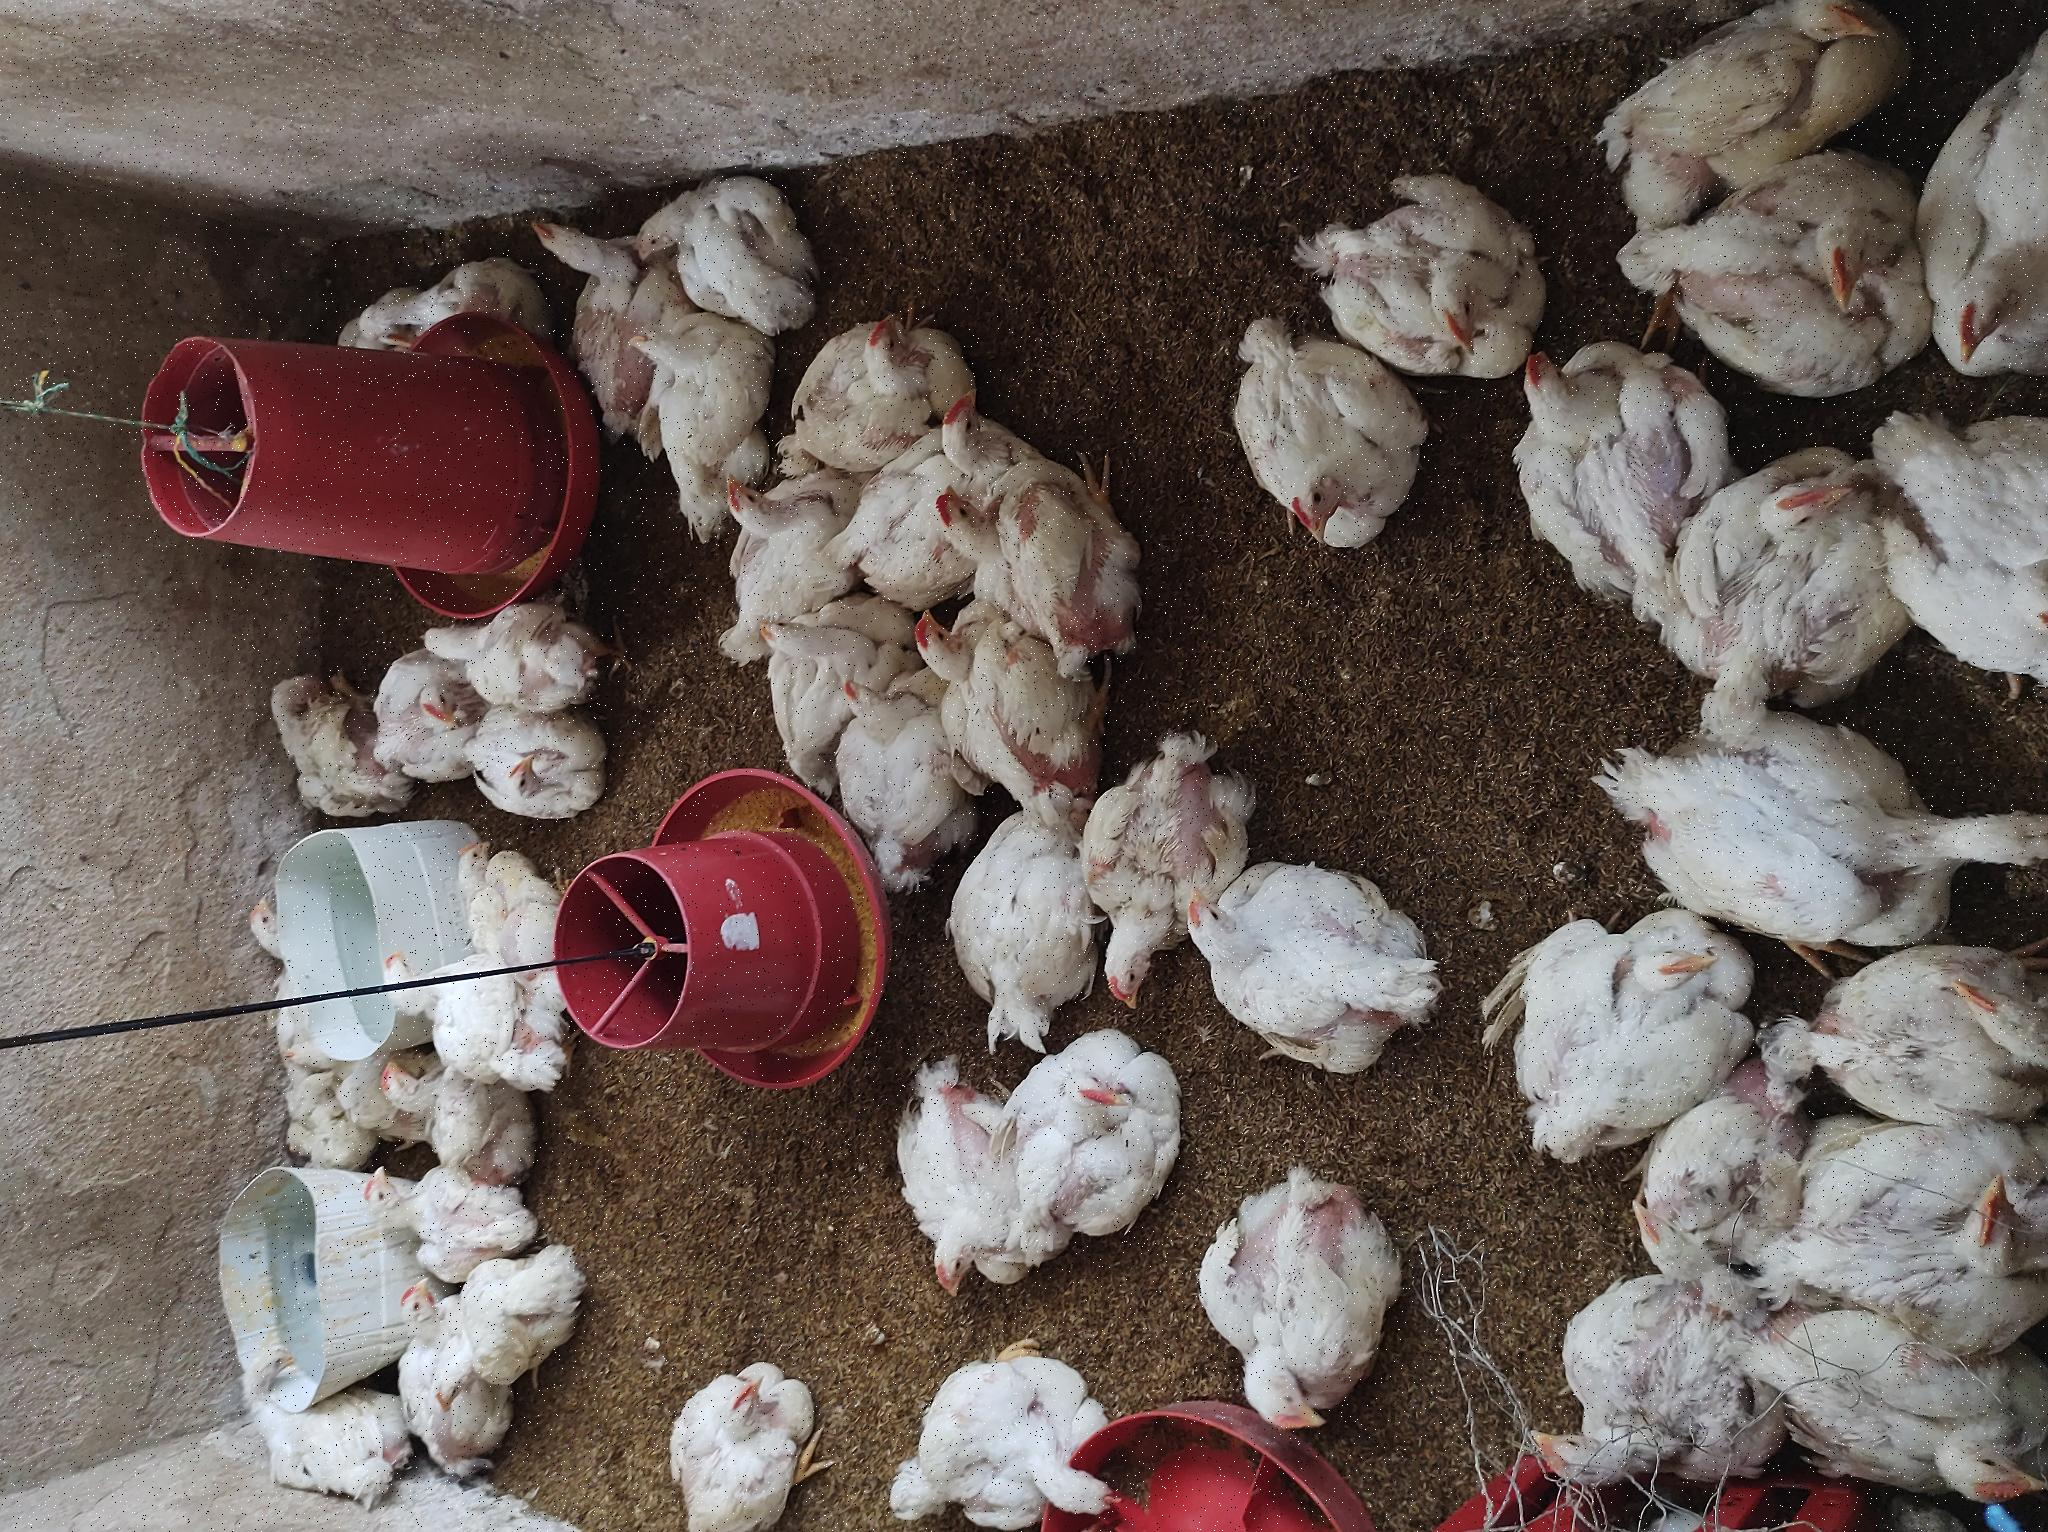Pollos: (88, 1209, 385, 1439), (471, 1218, 730, 1447), (1123, 1299, 1359, 1522), (2, 877, 187, 1155), (470, 935, 743, 1123), (965, 1223, 1199, 1429), (515, 1070, 788, 1246), (261, 1017, 512, 1183), (236, 880, 475, 1051), (8, 636, 201, 832), (1202, 629, 1367, 840), (18, 240, 217, 404), (121, 431, 314, 594), (772, 908, 933, 1073), (1018, 623, 1215, 734), (845, 414, 940, 631), (359, 1456, 627, 1532), (478, 377, 587, 562), (1091, 787, 1216, 948), (267, 354, 375, 531), (1186, 354, 1277, 546), (718, 451, 824, 612), (677, 835, 862, 924), (915, 702, 1073, 805), (64, 386, 253, 472), (360, 381, 475, 518), (718, 278, 853, 389), (1234, 518, 1392, 603), (578, 444, 697, 554), (755, 372, 878, 476), (812, 748, 914, 858), (946, 1487, 1182, 1532), (956, 932, 1049, 1043), (338, 256, 439, 357), (568, 224, 647, 319), (1063, 932, 1149, 1003), (447, 275, 516, 351)
